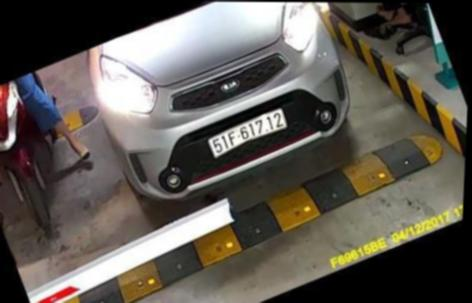License_Plate: (202, 110, 295, 159)
